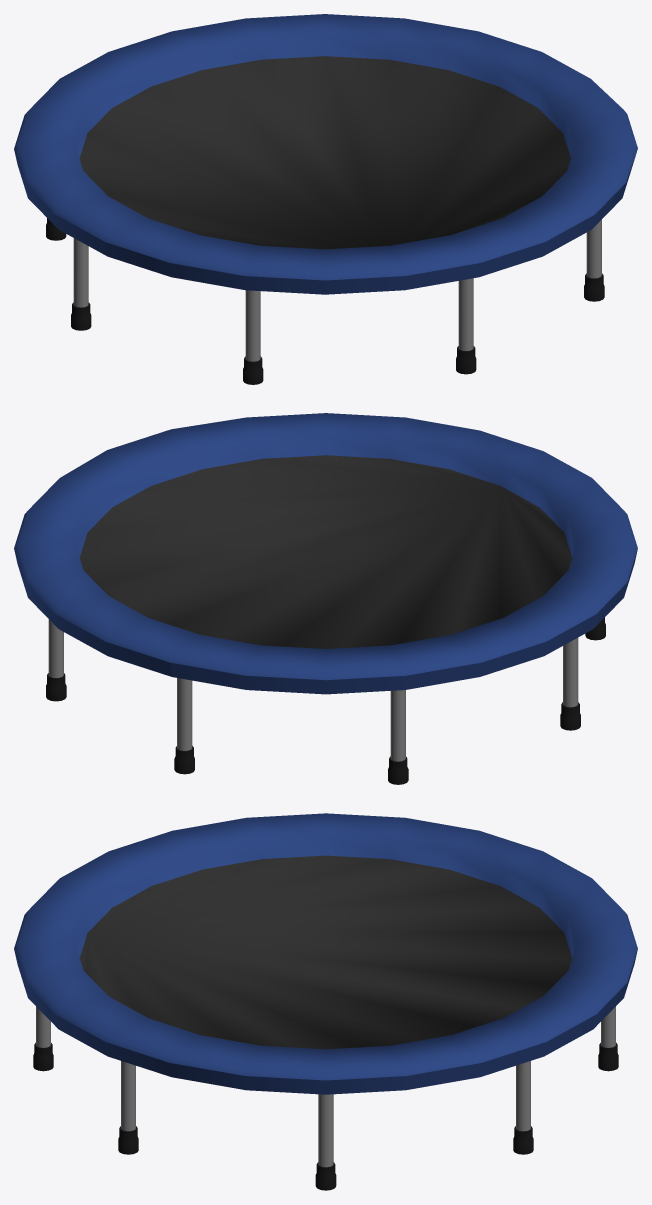
File: Trampolin.fbx
The picture shows the model from 3 angles, top to bottom: view 1: azimuth 30°, elevation 25°; view 2: azimuth 150°, elevation 25°; view 3: azimuth 270°, elevation 25°; orthographic projection.
Parts seen in each view (by area): view 1: Trampolin, Ständer; view 2: Trampolin, Ständer; view 3: Trampolin, Ständer.
Boxes of the visible parts, left/top/right/bottom form: Trampolin: left=14, top=14, right=637, bottom=294; Ständer: left=46, top=218, right=604, bottom=384; Trampolin: left=14, top=413, right=637, bottom=694; Ständer: left=46, top=617, right=605, bottom=784; Trampolin: left=14, top=813, right=637, bottom=1094; Ständer: left=33, top=1006, right=618, bottom=1190.
Bounding box in the file's own units: 303 × 66.55 × 303.
